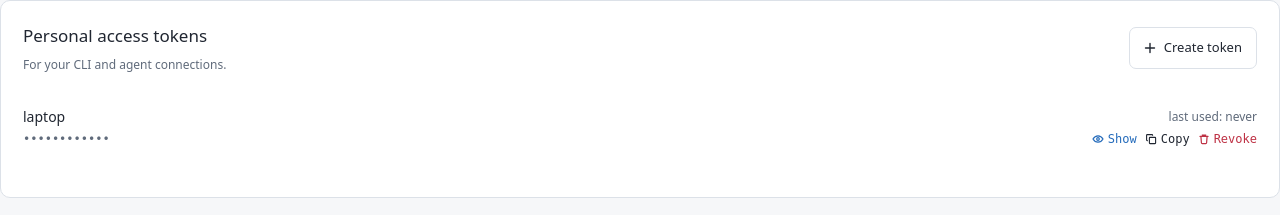
Scenario: PersonalTokensCard › confirms a successful copy so the user isn't left guessing whether it worked
The image size is (1280, 215).
Check: the text "laptop" is shown, box [23,106,65,126]
Click the button "Copy". click: (1167,138)
box: [1145,130,1190,146]
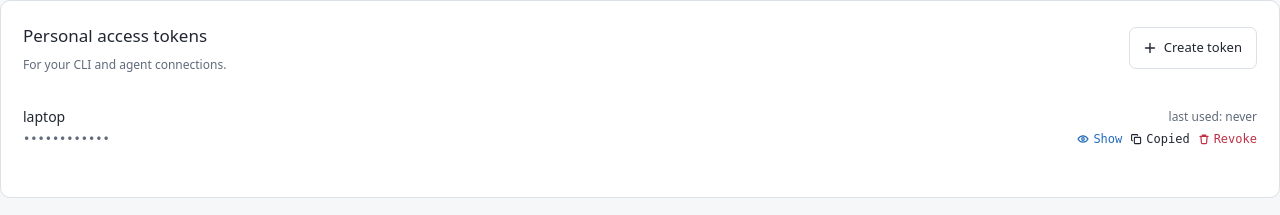
Check: the button "Copied" is shown, box [1130,130,1190,146]
